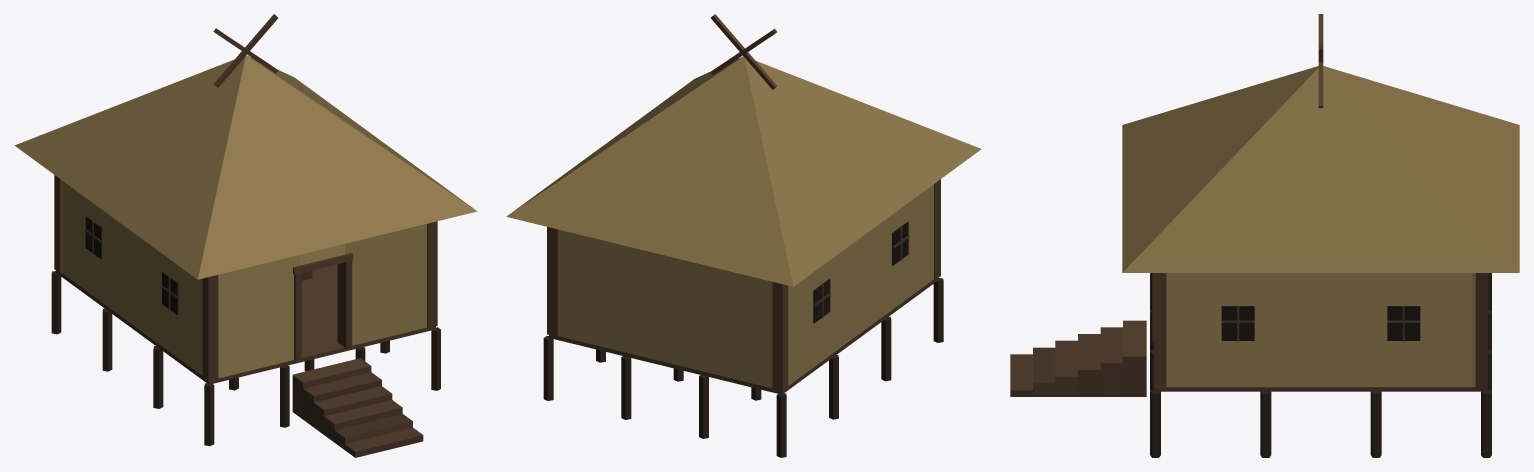
Rendered from walk_tidebound_house.glb.
The picture shows the model from 3 angles, left to right: view 1: azimuth 30°, elevation 25°; view 2: azimuth 150°, elevation 25°; view 3: azimuth 270°, elevation 25°; orthographic projection. The views are drawn at different scales.
Parts seen in each view (by area): view 1: walk_tidebound_house_roof, walk_tidebound_house; view 2: walk_tidebound_house_roof, walk_tidebound_house; view 3: walk_tidebound_house_roof, walk_tidebound_house.
Boxes of the visible parts, bbox=[...] form: walk_tidebound_house_roof: bbox=[14, 14, 477, 279]; walk_tidebound_house: bbox=[51, 175, 440, 457]; walk_tidebound_house_roof: bbox=[506, 14, 981, 286]; walk_tidebound_house: bbox=[543, 179, 943, 457]; walk_tidebound_house_roof: bbox=[1122, 14, 1519, 272]; walk_tidebound_house: bbox=[1010, 273, 1491, 457].
Size of what is drawn, in the model's own units: 7.4 by 8.56 by 10.77.
Materials: 2 (2 with a texture image).
